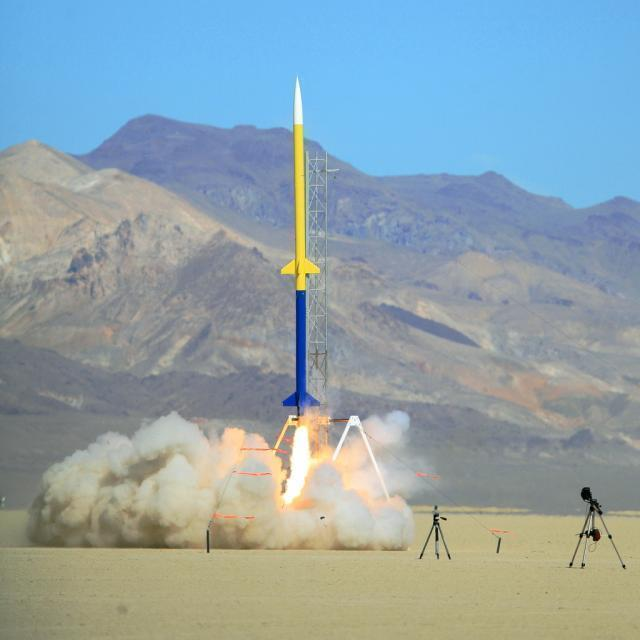missile: (286, 80, 321, 433)
